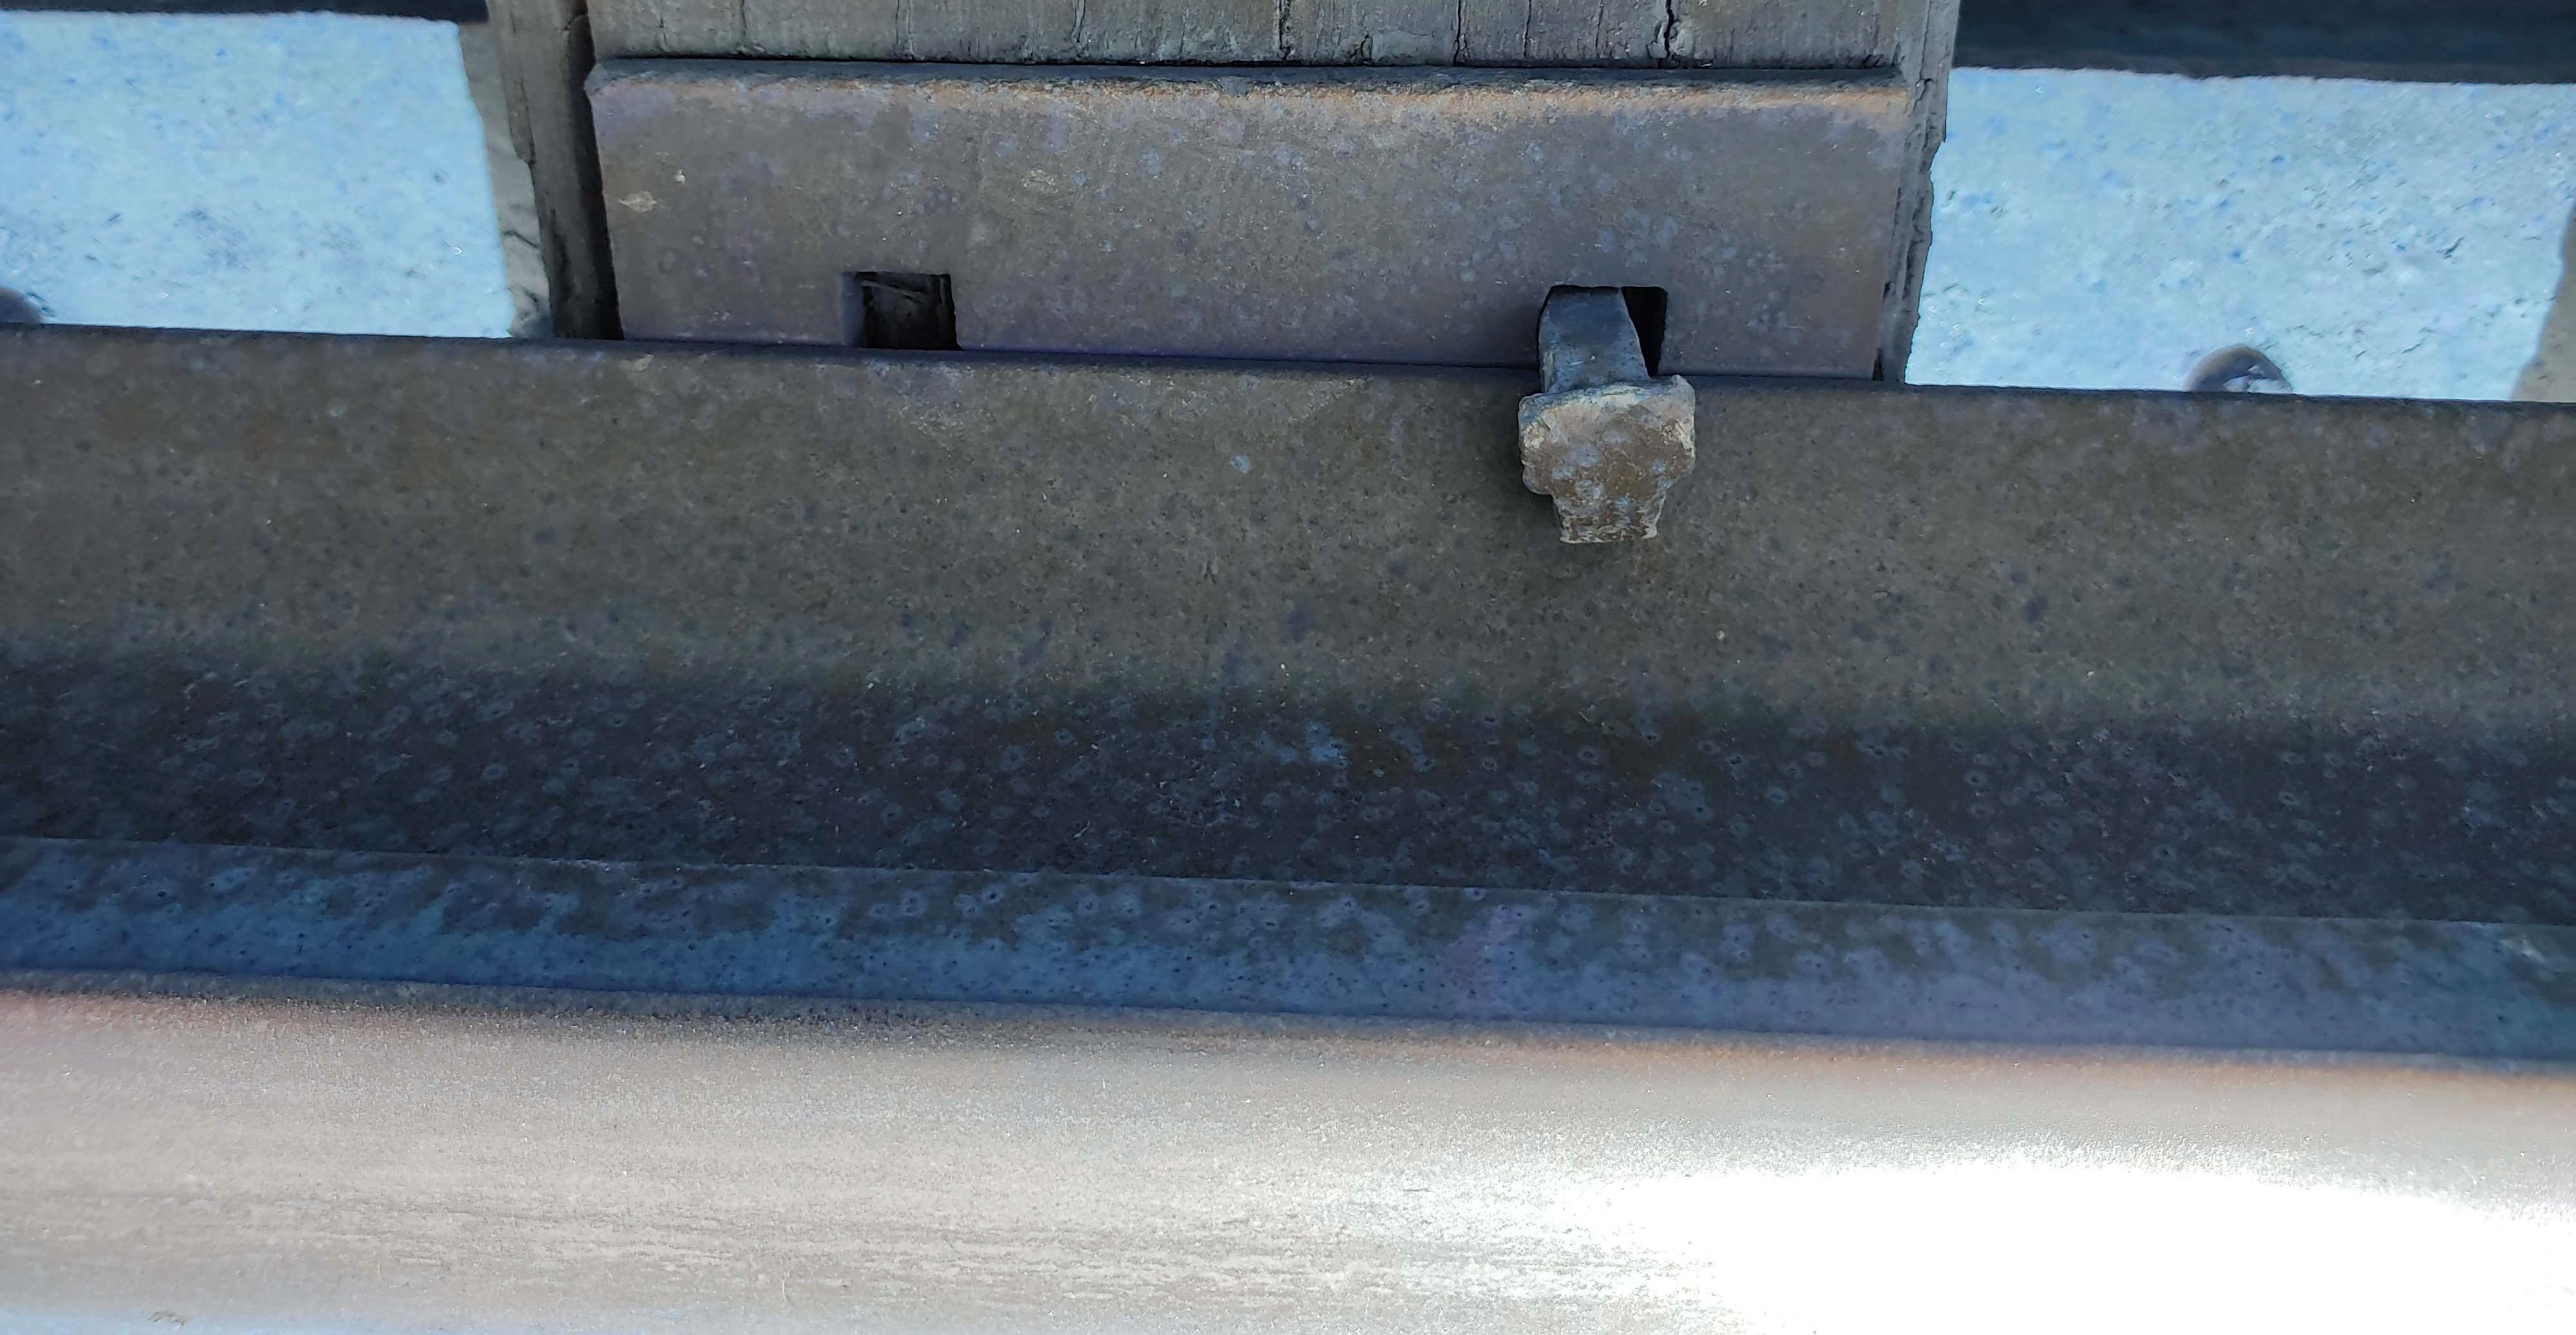error1: (1456, 171, 1758, 557), (808, 162, 1048, 569)
